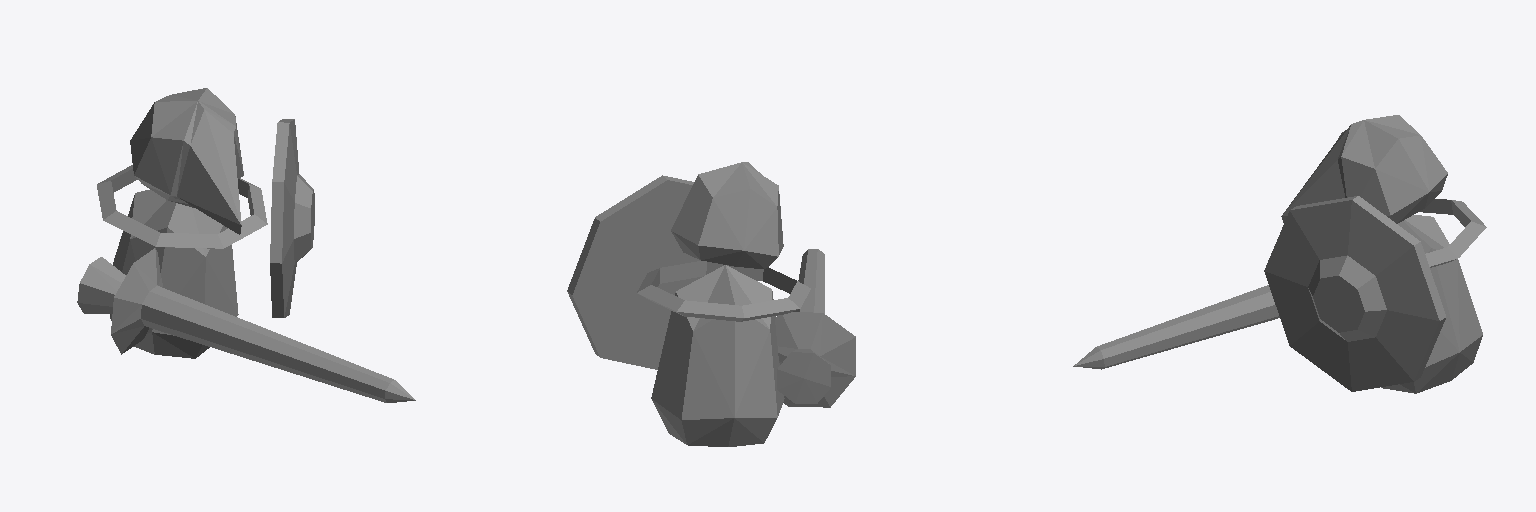
3 views of the same model, side by side, from view 1: azimuth 30°, elevation 25°; view 2: azimuth 150°, elevation 25°; view 3: azimuth 270°, elevation 25° (orthographic).
Visible parts, largest first — view 1: meshMinion; view 2: meshMinion; view 3: meshMinion.
Part boxes in pixels (left/top/right/bottom): meshMinion: left=77, top=88, right=415, bottom=402; meshMinion: left=567, top=162, right=855, bottom=446; meshMinion: left=1073, top=115, right=1486, bottom=393.
Size of the model in its own units: 99.6 by 101 by 147.